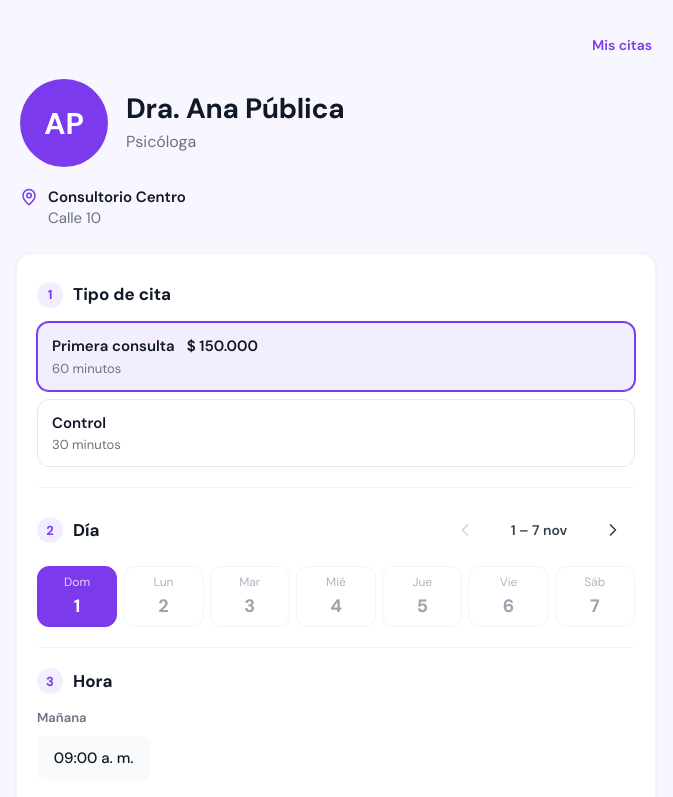
Test: PublicBookingPage booking › goes back to the login with a notice when the session expired
The width and height of the screenshot is (673, 797).
Click the button "09:00 a. m.".
click(94, 758)  # box [37,736,150,780]
(page scrolled)
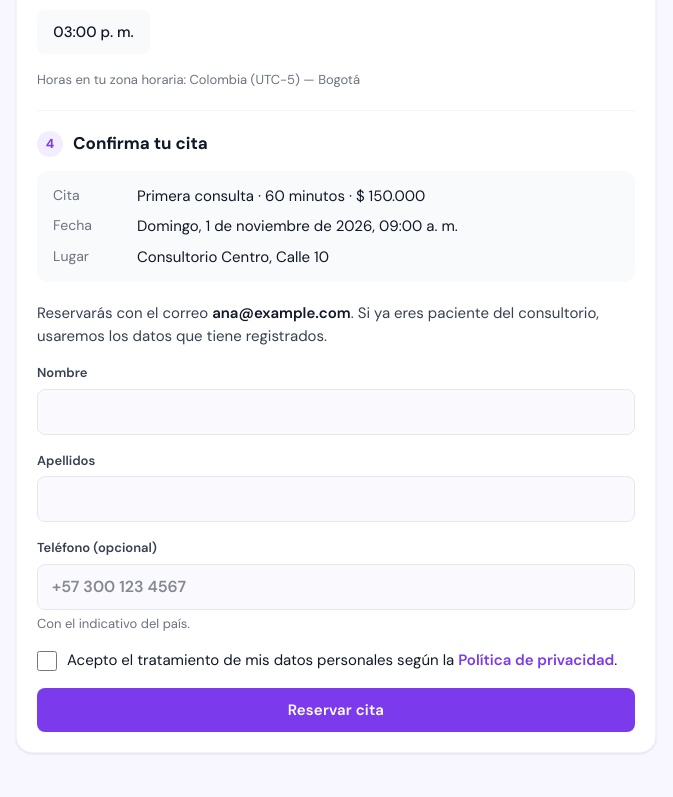
Type "  Lucía " into the field labelled "Nombre".
click(336, 412); type("  Lucía ")  # box [37,389,635,435]
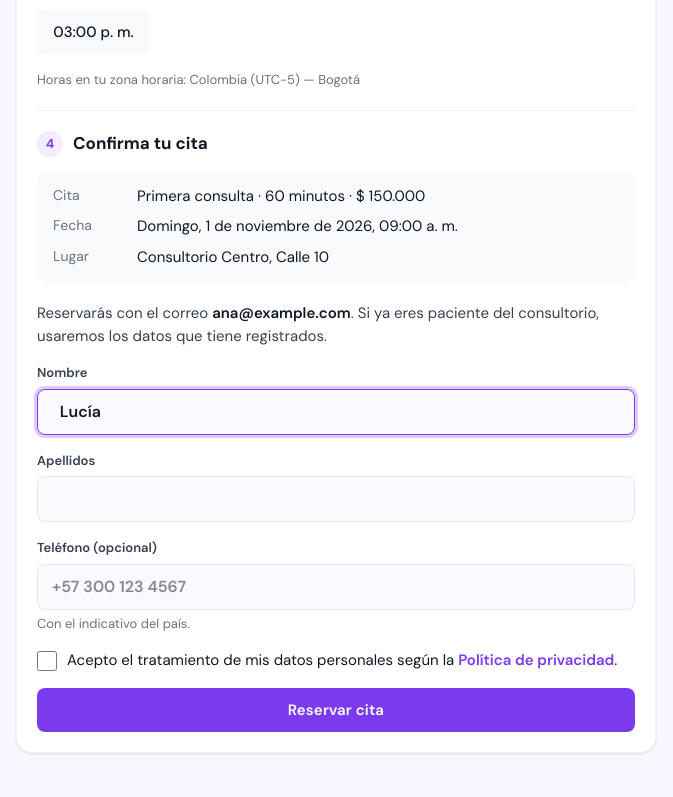
Type "Rojas" into the field labelled "Apellidos".
click(336, 499); type("Rojas")  # box [37,476,635,522]
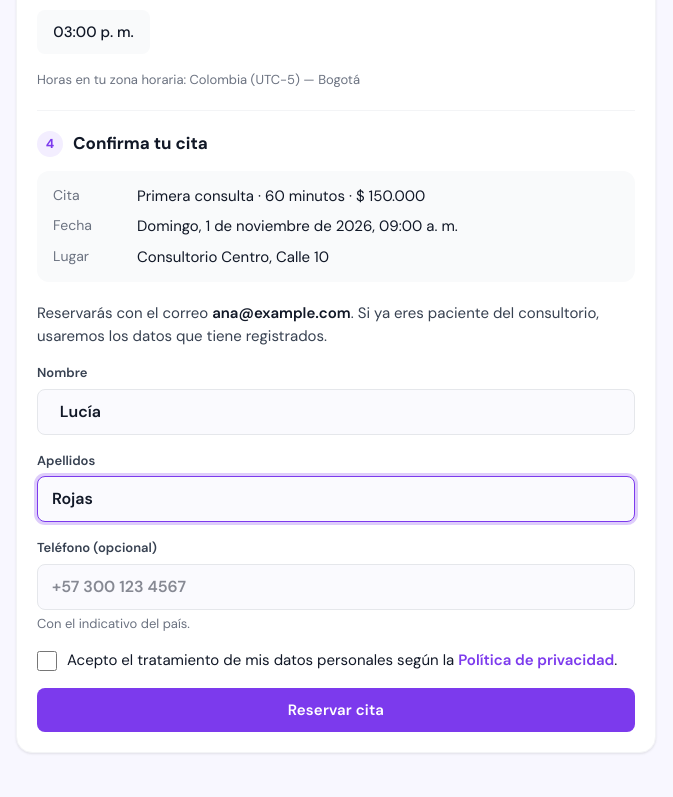
Click the checkbox.
click(47, 661)  # box [37,651,57,671]
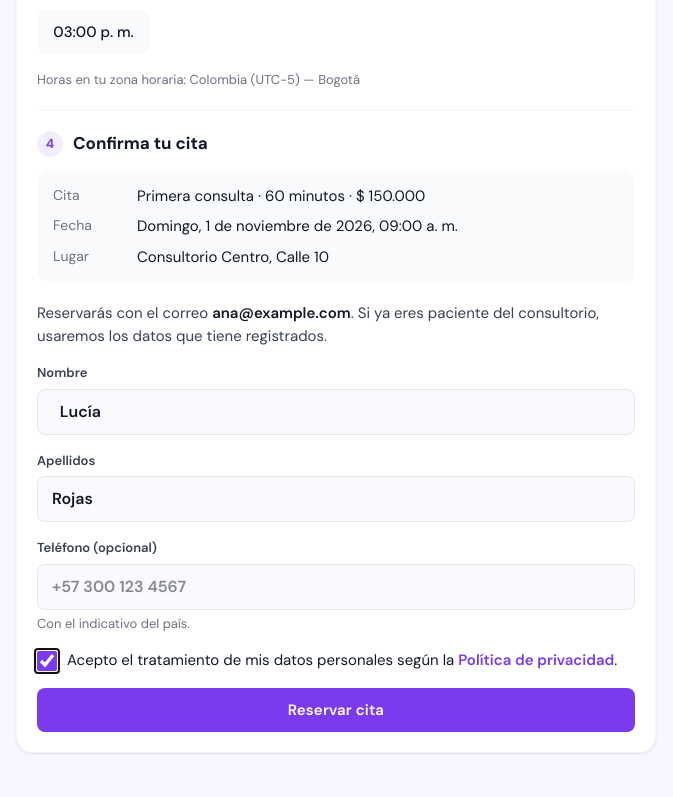
Click the button "Reservar cita".
click(336, 710)  # box [37,688,635,732]
(page scrolled)
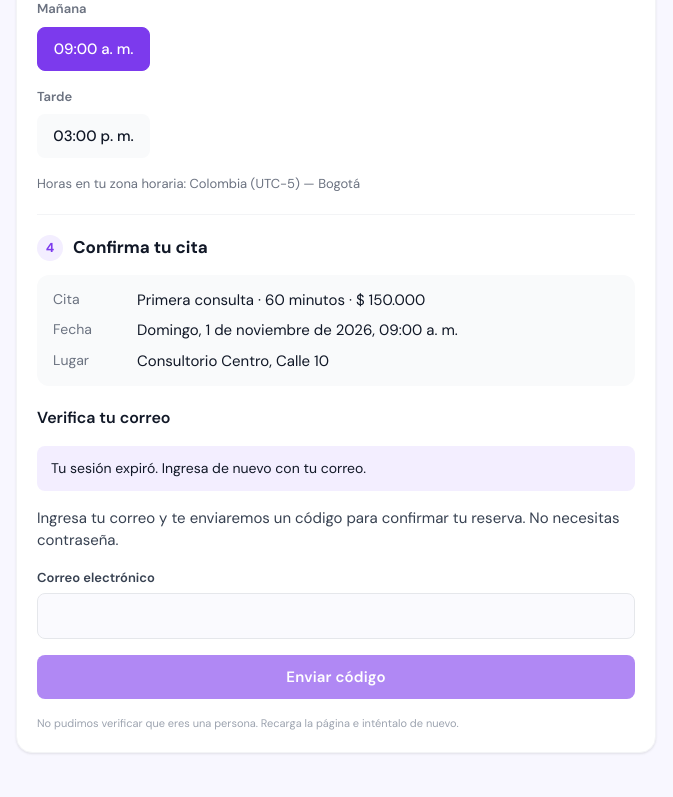
Check: the heading "Verifica tu correo" is shown, box [37,407,171,428]
Check: the message "Tu sesión expiró. Ingresa de nuevo con tu correo." is shown, box [37,446,635,491]
